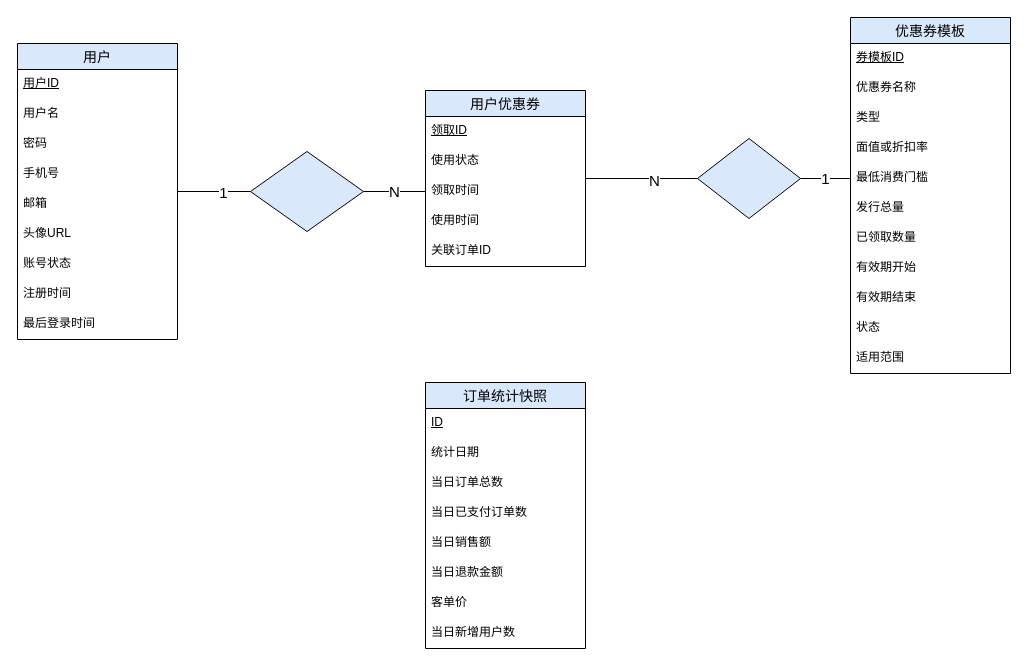
The diagram is 1028 pixels wide and 669 high, and some of its shapes have lost their labels. Here are the shapes that lost their labels. From the top down, the centre of each, then its label:
At point 307,191: "领取优惠券".
At point 748,178: "发放优惠券".
